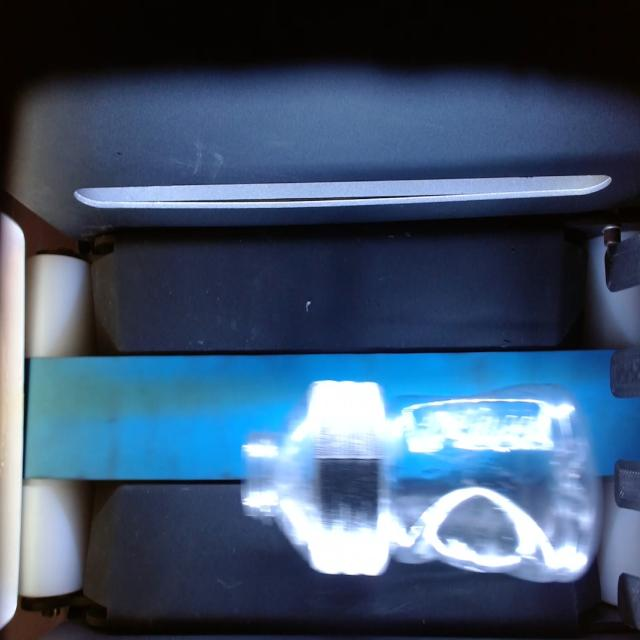bottom: (395, 382, 603, 588)
label: (307, 376, 391, 580)
neck: (241, 402, 311, 556)
